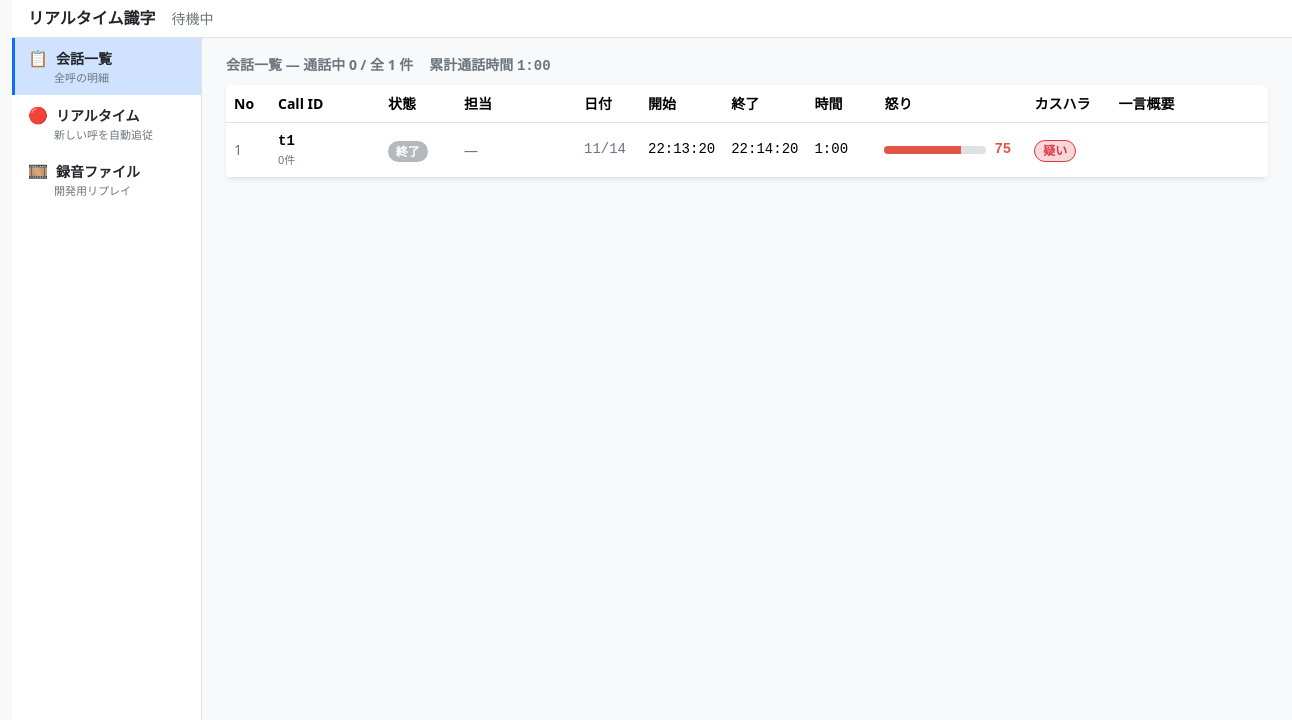
Test: 未知のWSイベント › 型に無いイベント(speech等)が来ても状態が壊れない
The image size is (1292, 720).
Click the button with test id "call-t1" at point(747, 150), box top-left (226, 122), bottom-right (1268, 177)
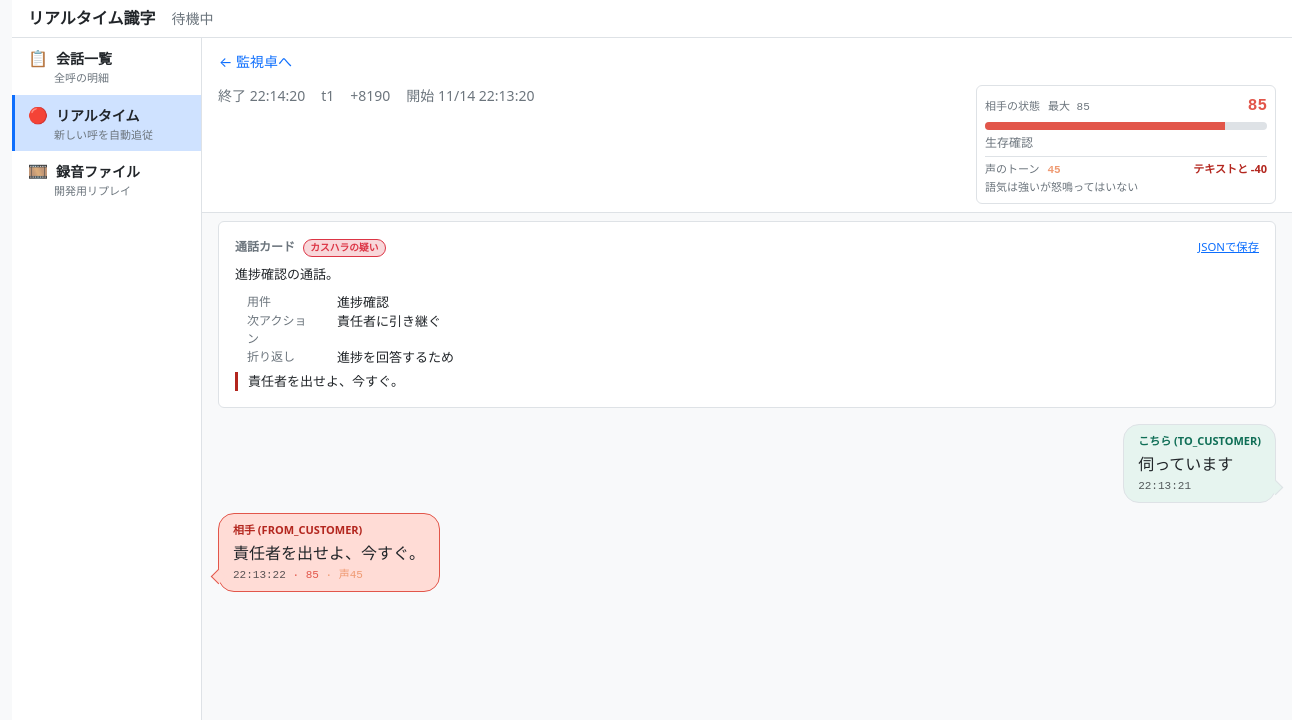
expect the element with test id "situation" is shown: met, box top-left (976, 85), bottom-right (1276, 204)
expect the text with test id "sit-score" reads "85": met, box top-left (1248, 97), bottom-right (1267, 115)
